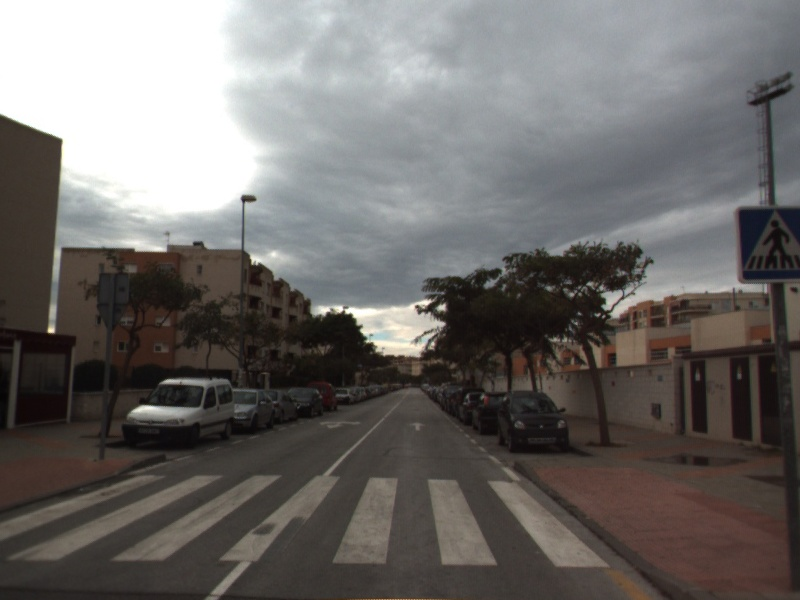STRAIGHT: (407, 420, 428, 432)
